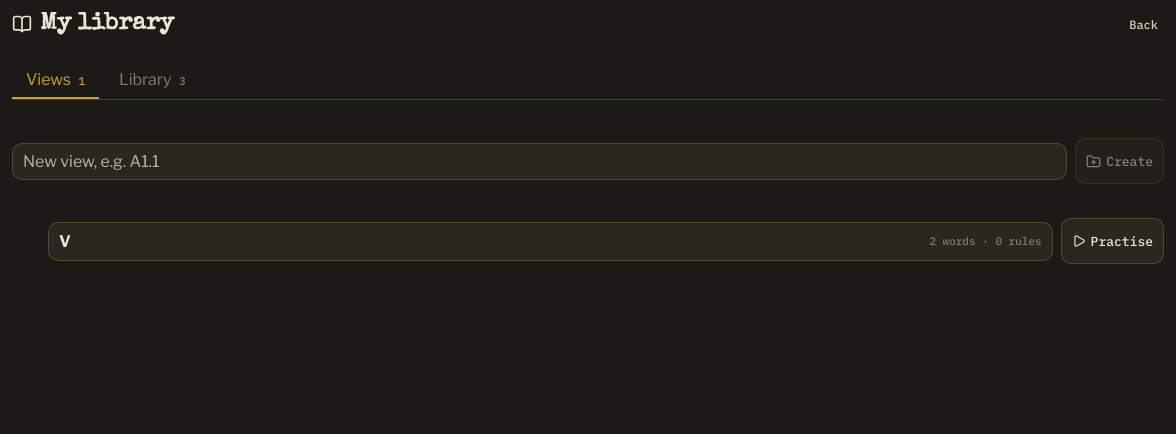
the library (all my words) and the views › removing the ticked words from the library takes two taps and takes them out of their views too
This screenshot has width=1176, height=434.
Step 1. Click the tab "Library 3" → (152, 80), box [105, 62, 200, 99]
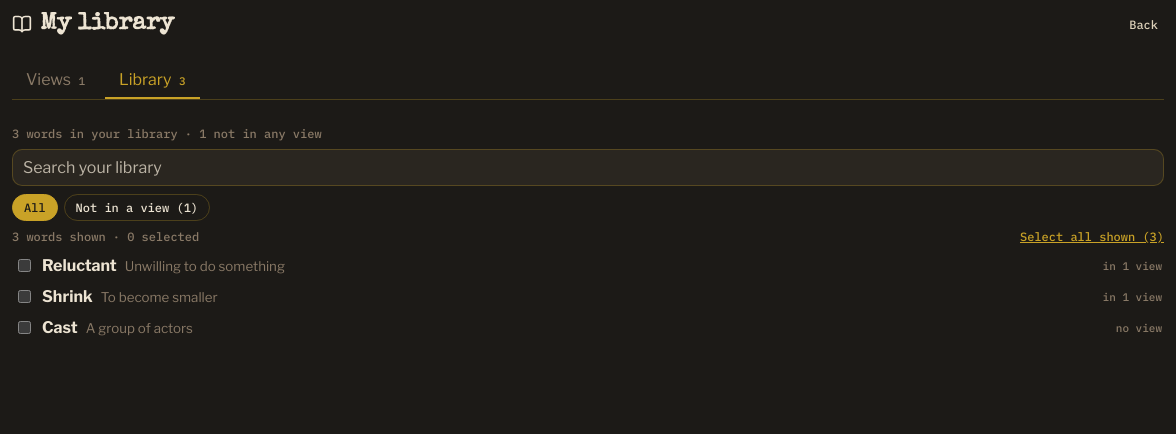
Step 2. Click the checkbox labelled "Reluctant Unwilling to do something in 1 view" → (24, 266), box [18, 259, 31, 272]
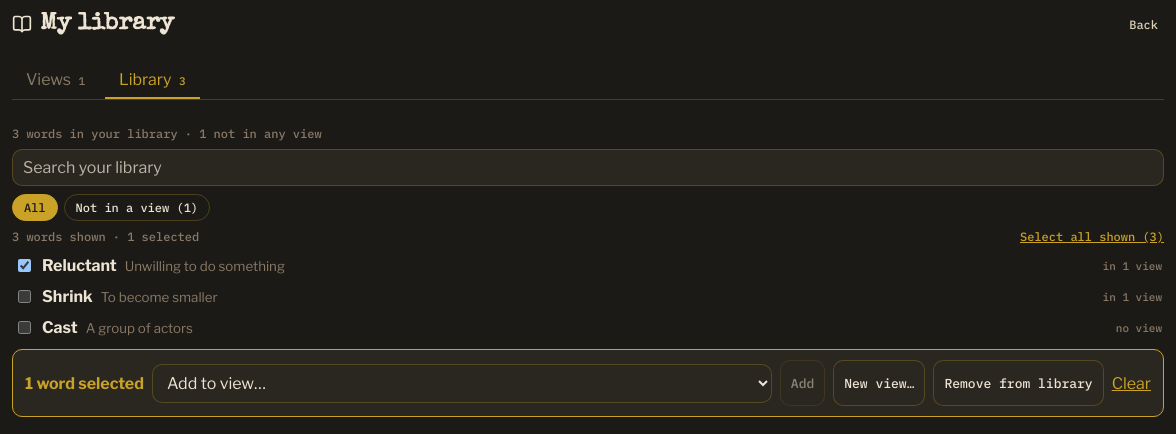
Step 3. Click the button "Remove from library" → (1019, 383), box [934, 360, 1104, 406]
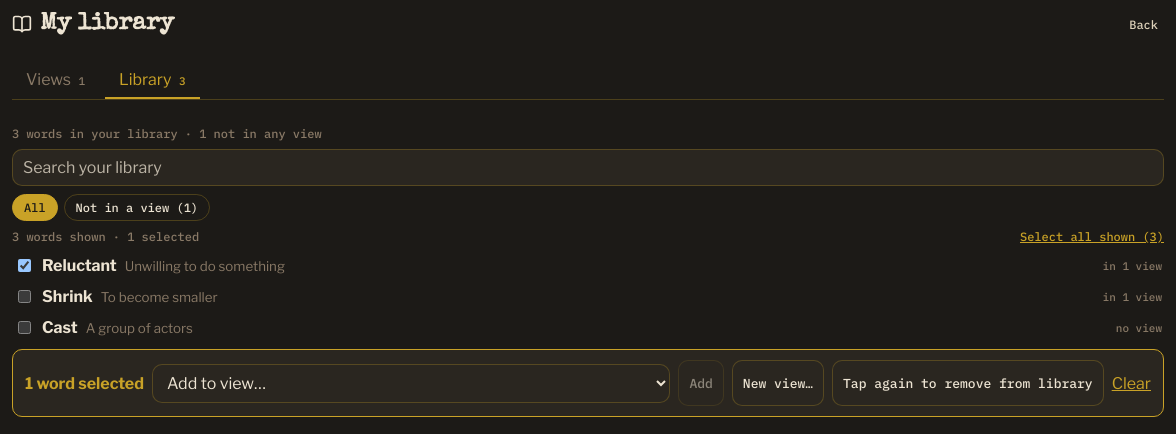
Check: the form with class "lib-actionbar" shows "Tap again to remove from library"
Step 4. Click the button "Tap again to remove from library" → (968, 383), box [832, 360, 1104, 406]
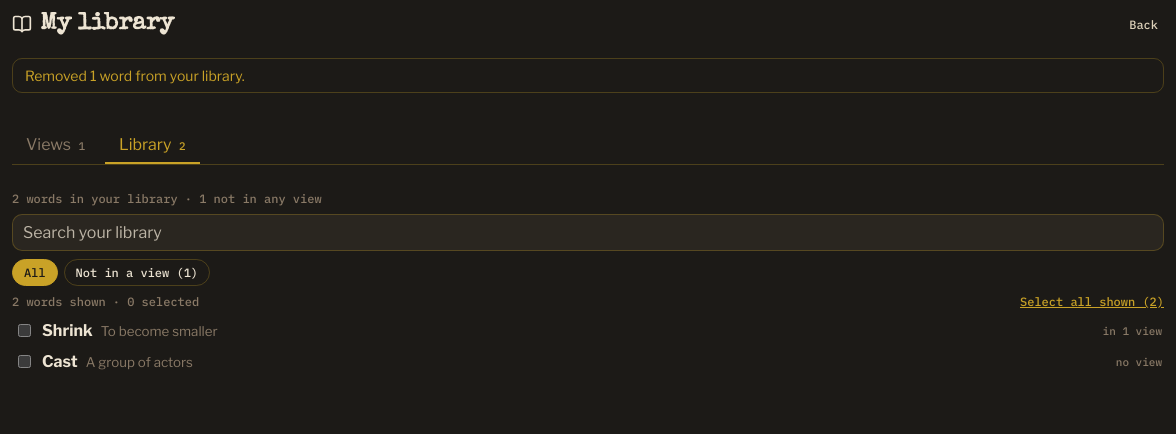
Check: the message with class "lib-notice" reads "Removed 1 word from your library.", box [25, 67, 245, 84]
